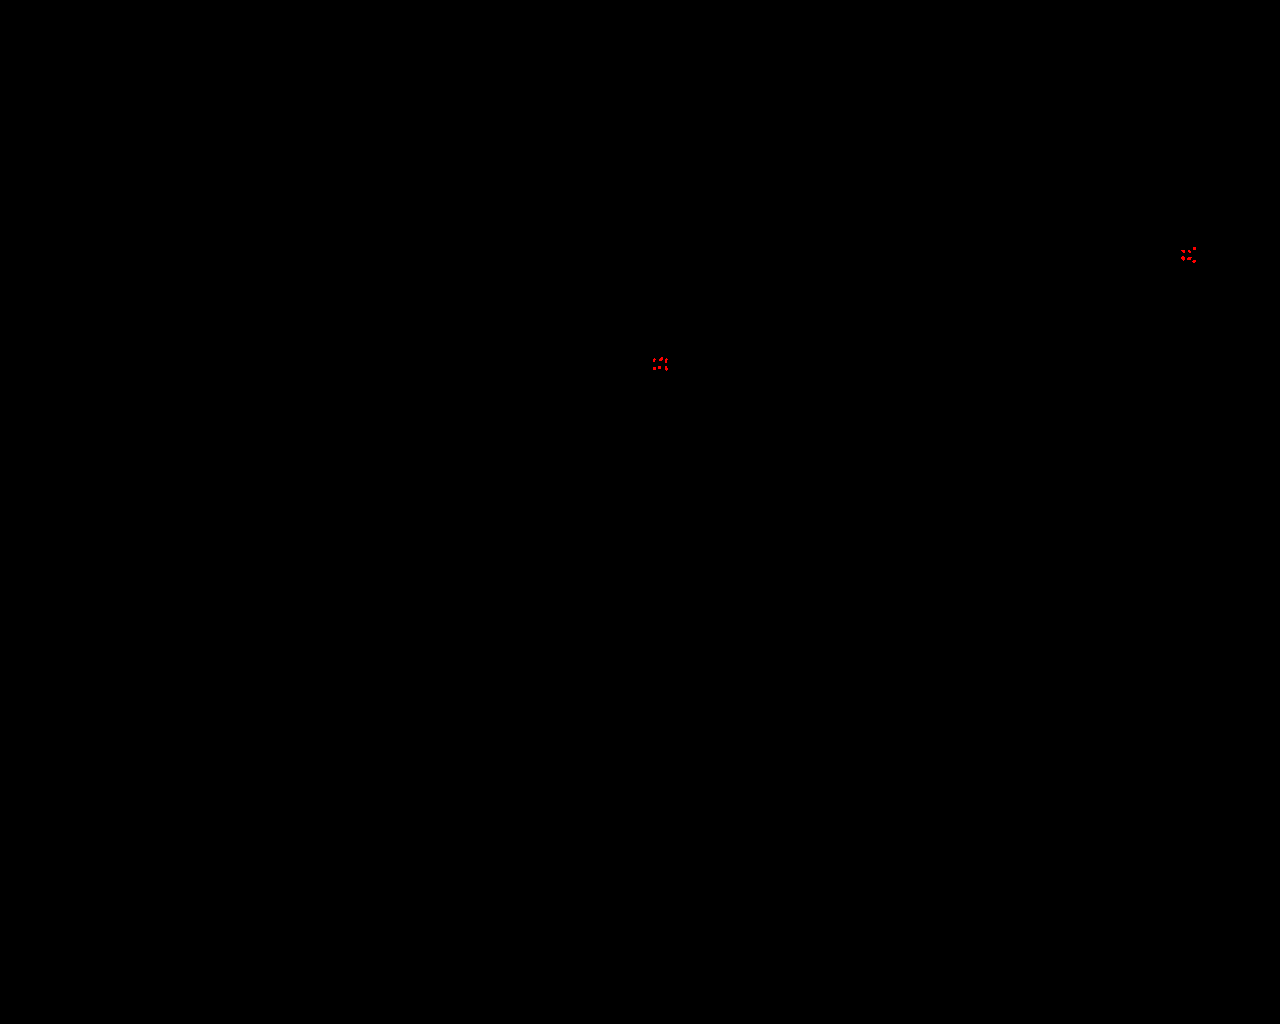Target: (1181, 256, 1185, 261), (1187, 257, 1192, 260), (665, 366, 668, 371), (1181, 250, 1185, 253), (1192, 260, 1196, 263), (659, 357, 664, 360), (665, 358, 668, 363), (1193, 247, 1196, 250), (1188, 250, 1191, 253), (653, 358, 656, 362), (658, 366, 661, 369), (653, 367, 656, 370)
